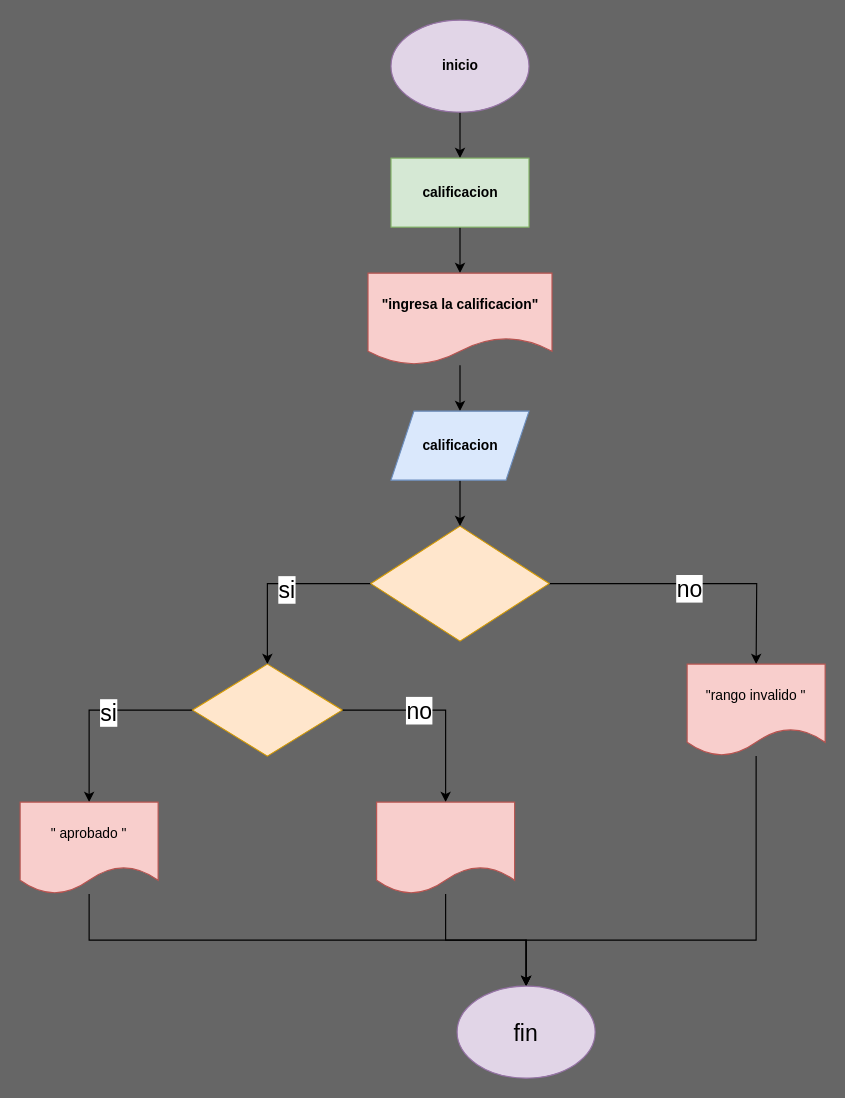
Some shapes in this 845 by 1098 pixel diagram are drawn without their labels. Each missing label, with the box of its shape:
" reprobado ": (375, 801, 515, 894)
calificacion <= 7 y calificacion >= 0: (370, 525, 549, 641)
calificacion >= 4: (191, 663, 342, 756)
